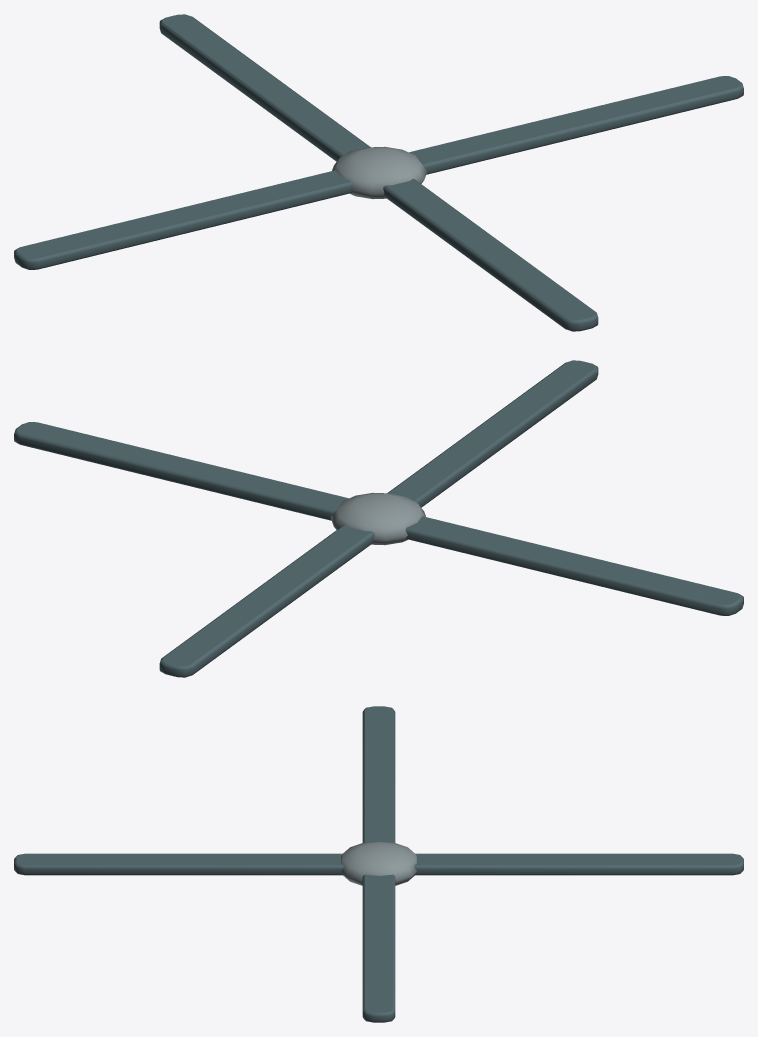
Rendered from rotor.glb.
3 renders of one model, top to bottom at view 1: azimuth 30°, elevation 25°; view 2: azimuth 150°, elevation 25°; view 3: azimuth 270°, elevation 25°, orthographic. The views are drawn at different scales.
Visible parts, largest first — view 1: rotor; view 2: rotor; view 3: rotor.
Boxes of the visible parts, <box> form: rotor: <box>14,14,743,331</box>; rotor: <box>14,360,743,677</box>; rotor: <box>14,706,743,1022</box>.
Size of the model in its own units: 3.77 by 0.172 by 3.77.
